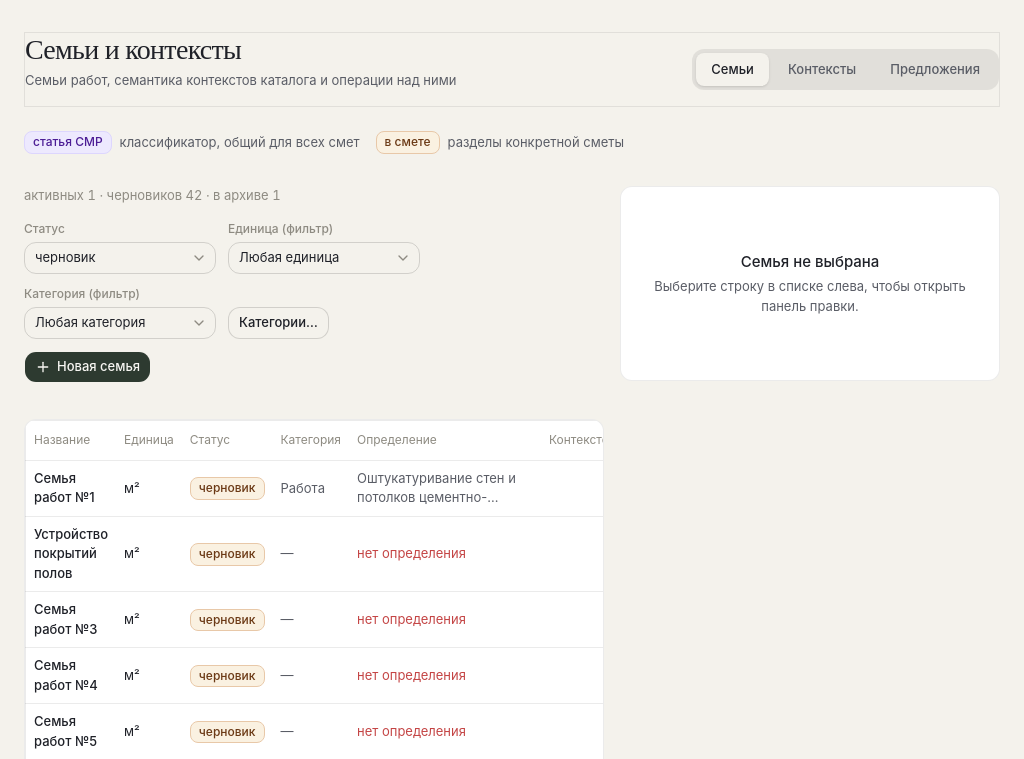
Test: FamiliesPage › две вкладки — «Семьи» и «Контексты»; вкладки «Операции» нет (спека §2.1)
The width and height of the screenshot is (1024, 759).
Expected: the tab "Семьи" is shown, [696,53,769,86]
Click the tab "Контексты" at (822, 69), box [773,53,871,86]
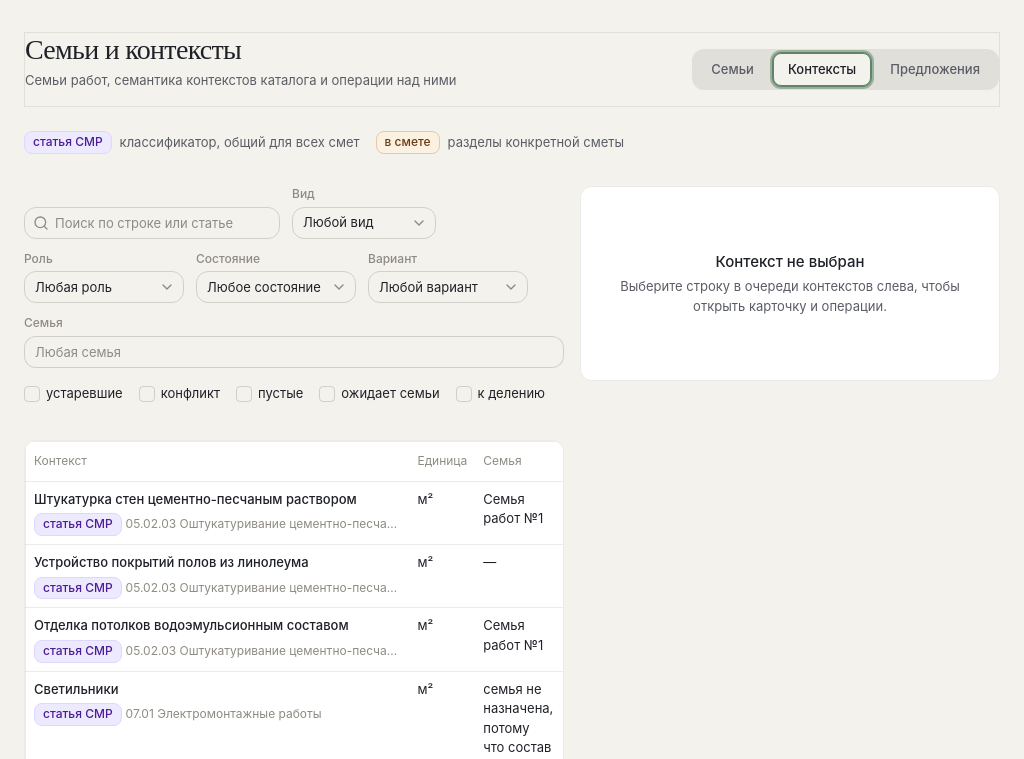
Expected: the field named "Поиск по написанию каталога" is shown, [49,205,279,241]
